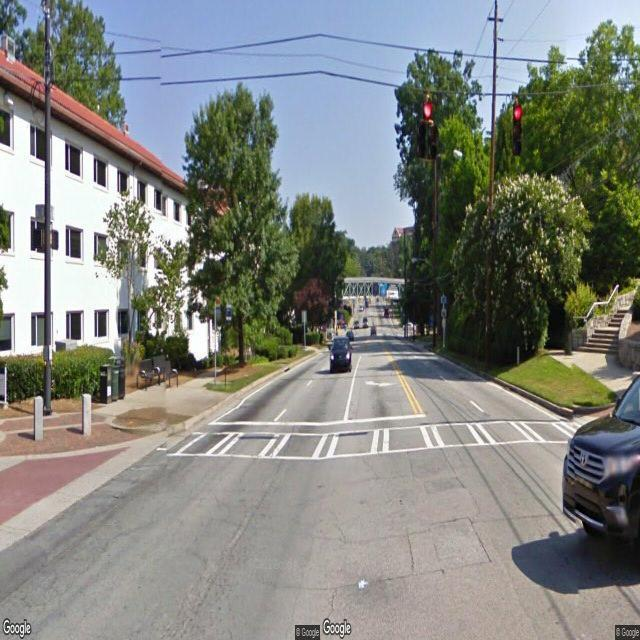seating: (153, 356, 180, 390), (137, 359, 162, 392)
trash_can: (109, 354, 120, 401), (118, 356, 126, 398)
